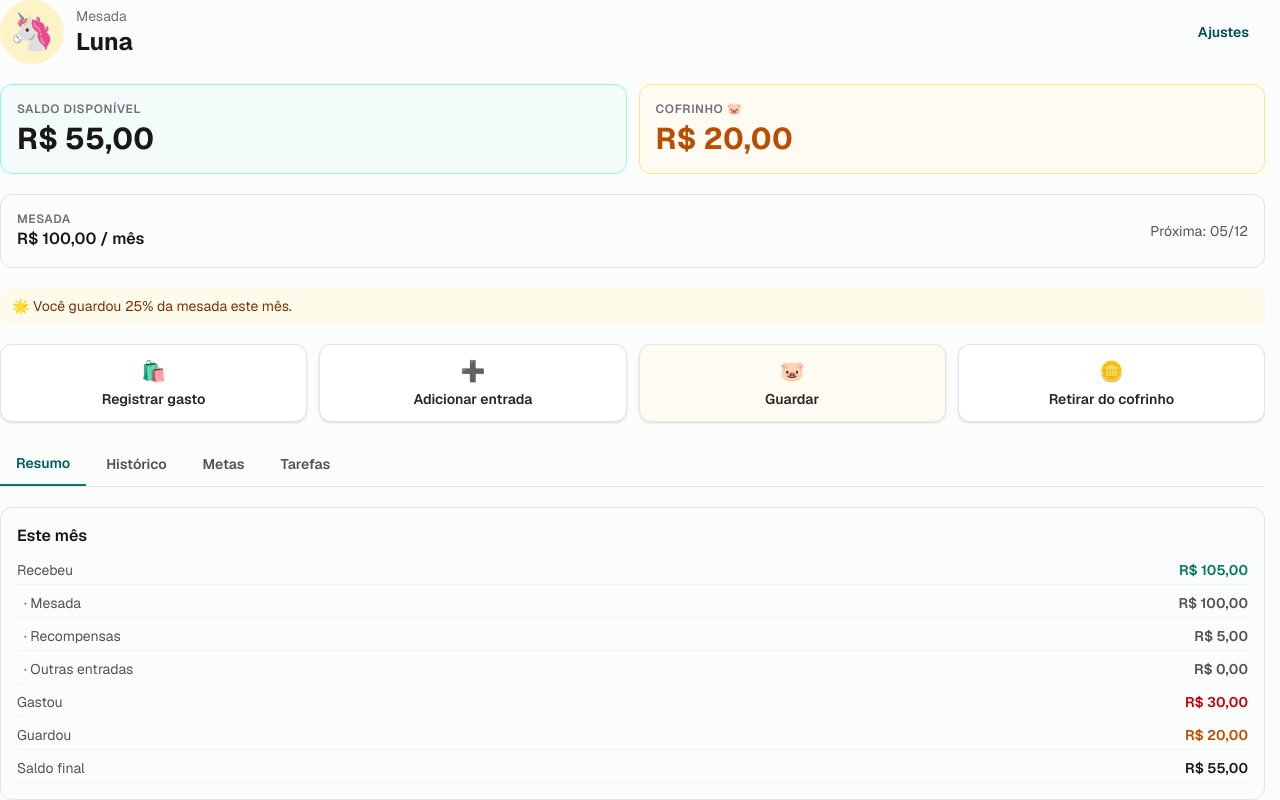
Scenario: Mesada (telas) › registrar gasto envia ao servidor e mostra o erro de saldo sem fechar
Click the button "🛍️ Registrar gasto": {"x": 154, "y": 383} x1=0 y1=344 x2=307 y2=422
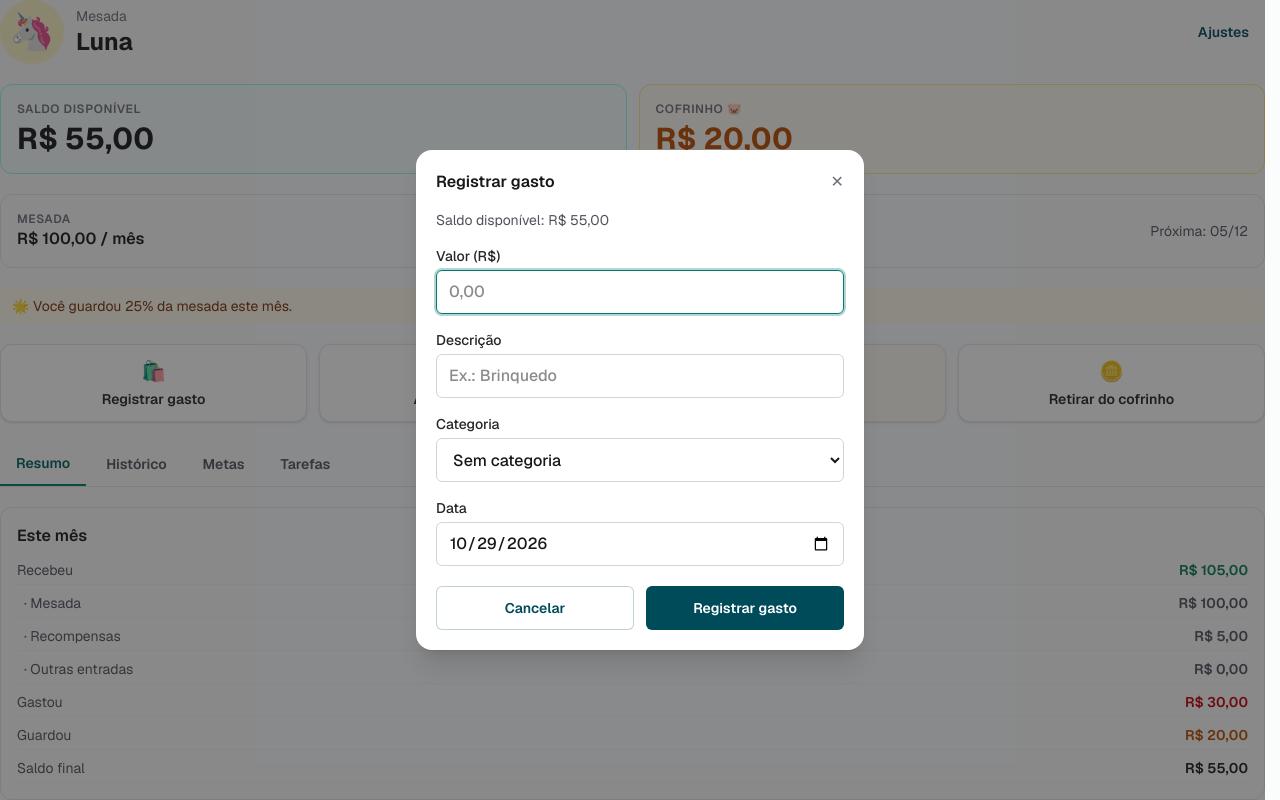
In the field labelled "Valor (R$)": {"x": 640, "y": 292} x1=436 y1=270 x2=844 y2=314, type "999"
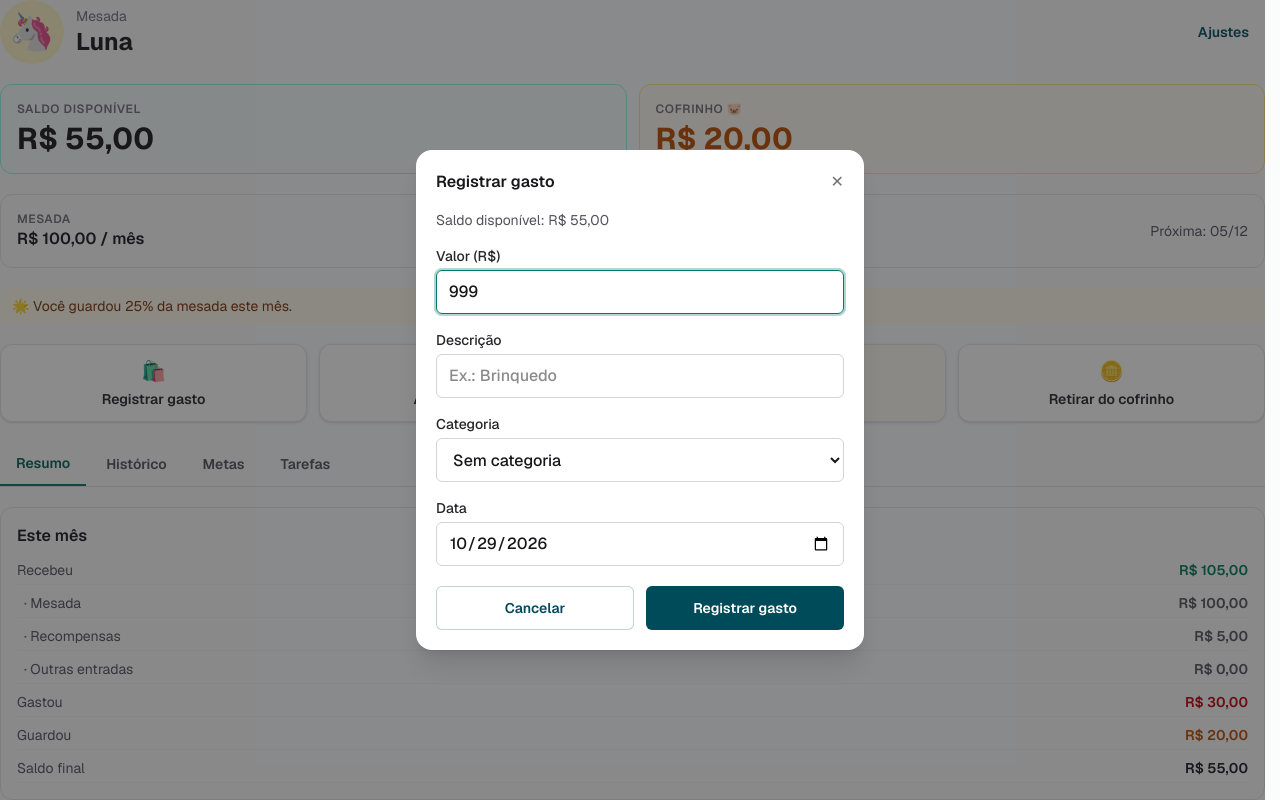
Click the button "Registrar gasto": {"x": 745, "y": 608} x1=646 y1=586 x2=844 y2=630
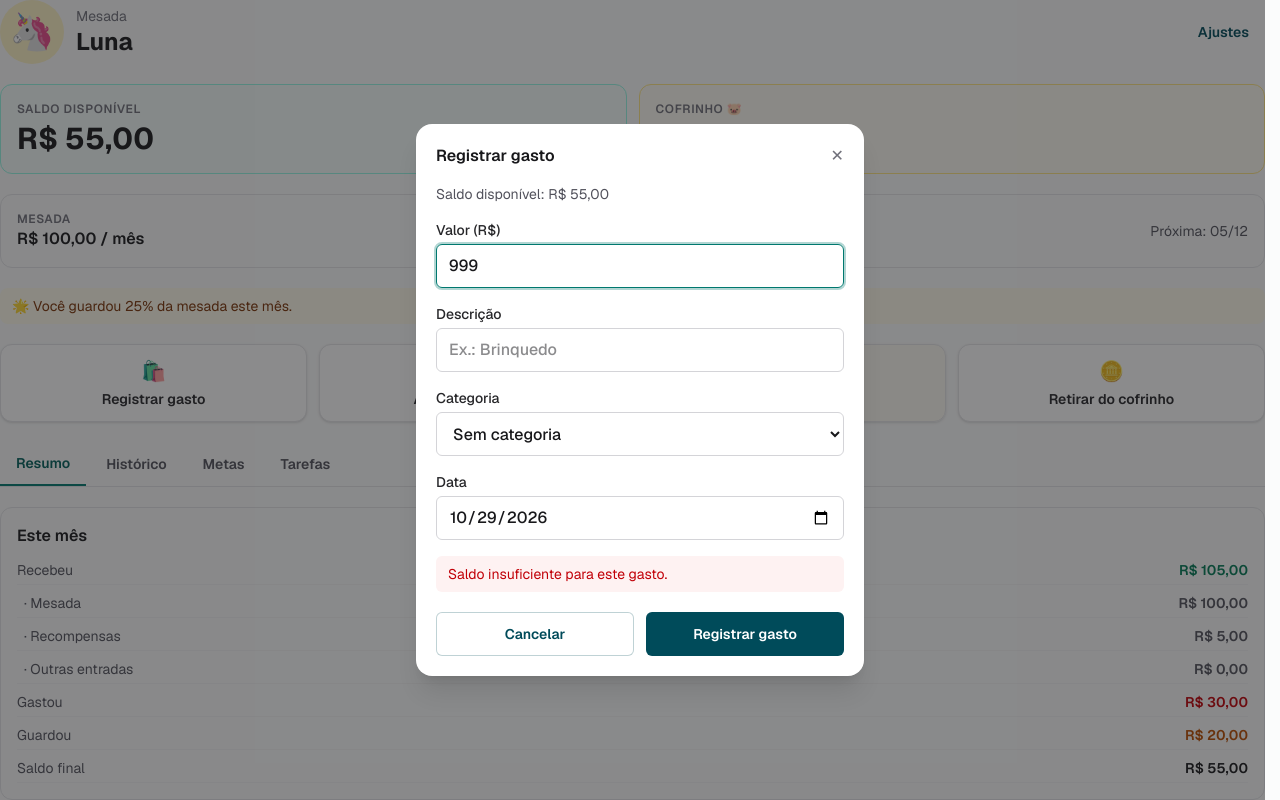
Expected: the text "Saldo insuficiente para este gasto." is shown, x1=436 y1=556 x2=844 y2=592
